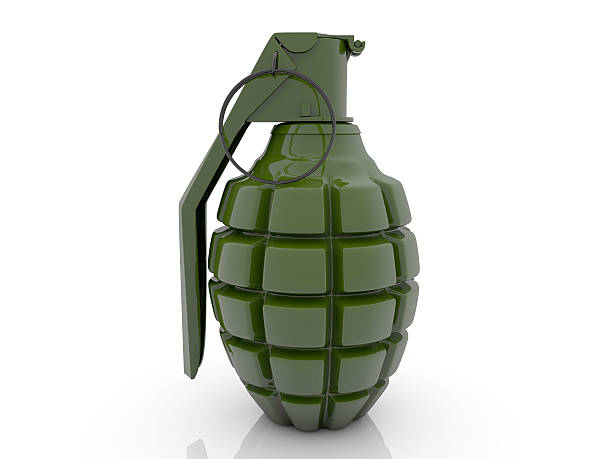e1: (179, 30, 420, 429)
